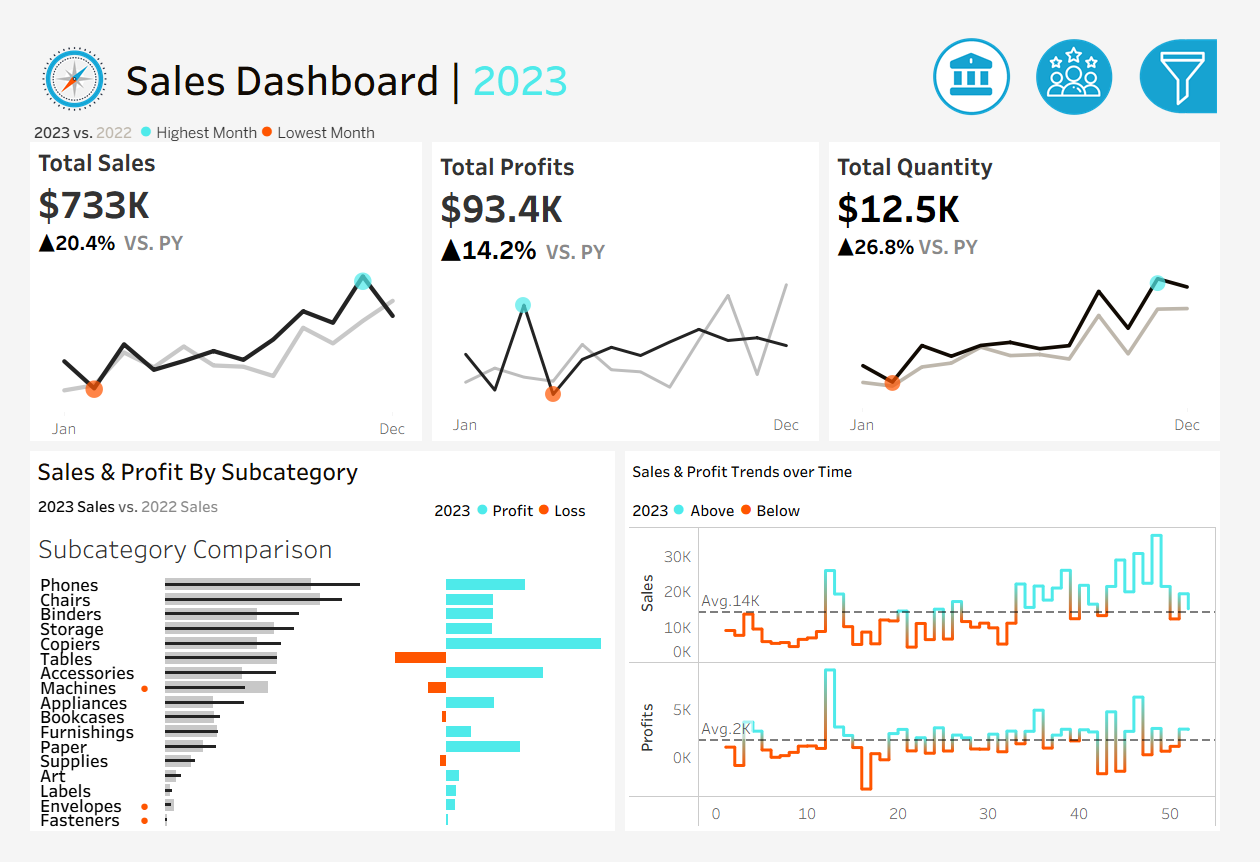

This screenshot's page, from the dashboard's own definition file:
{"tool":"tableau","page":{"name":"Sales Dashboard","canvas":[1200,800],"ordinal":1},"visuals":[{"type":"text","box":[902,0,292,97]},{"type":"image","param":"Image/Icon - Logo.png","box":[5,5,88,76]},{"type":"text","box":[93,5,850,76]},{"type":"worksheet","title":"Legend KPI","mark":"Automatic","box":[5,81,1190,25]},{"type":"text","box":[902,97,292,40]},{"type":"worksheet","title":"KPI Sales","mark":"Line","rows":["Calculation_0945318778806279"],"cols":["Order Date"],"box":[5,106,397,309]},{"type":"worksheet","title":"KPI Profits","mark":"Automatic","cols":["Order Date"],"box":[402,106,397,309]},{"type":"worksheet","title":"KPI Quantity","mark":"Line","rows":["Min/Max Sales (copy)_1578362877456413"],"cols":["Order Date"],"box":[799,106,396,309]},{"type":"parameter","param":"[Parameters].[Parameter 0945318771236869]","box":[902,137,292,56]},{"type":"text","box":[902,193,292,74]},{"type":"text","box":[902,267,292,33]},{"type":"filter","title":"KPI Sales","param":"[federated.07tv24w0hx6gy317v1wc40eklyu1].[none:Category:nk]","box":[902,300,292,61]},{"type":"filter","title":"KPI Sales","param":"[federated.07tv24w0hx6gy317v1wc40eklyu1].[none:Sub-Category:nk]","box":[902,361,292,61]},{"type":"text","box":[5,415,585,40]},{"type":"text","box":[600,415,595,39.9]},{"type":"text","box":[902,422,292,72]},{"type":"text","box":[600,454.9,595,32]},{"type":"worksheet","title":"Legend Subcategory","mark":"Automatic","box":[5,455,397,32]},{"type":"text","box":[402,455,188,32]},{"type":"worksheet","title":"Weeky Trends","mark":"Line","rows":["Calculation_0945318769774594","Calculation_0945318835187725"],"cols":["Order Date"],"box":[600,486.9,595,308.1]},{"type":"worksheet","title":"Subcategory Comparison","mark":"Bar","rows":["Sub-Category","Calculation_1595405351436288"],"cols":["CY Sales  (copy)_0945318770208771","Calculation_0945318769774594","Calculation_0945318835187725"],"box":[5,487,585,308]},{"type":"text","box":[902,494,292,33]},{"type":"filter","title":"KPI Sales","param":"[federated.07tv24w0hx6gy317v1wc40eklyu1].[none:Region:nk]","box":[902,527,292,61]},{"type":"filter","title":"KPI Sales","param":"[federated.07tv24w0hx6gy317v1wc40eklyu1].[none:State:nk]","box":[902,588,292,61]},{"type":"filter","title":"KPI Sales","param":"[federated.07tv24w0hx6gy317v1wc40eklyu1].[none:City:nk]","box":[902,649,292,61]}]}

Visuals, with their boxes in screenshot pixels (x1, y1, x2, y2), scaled from the page's 1200x800 canvas onto the 1260x862 screenshot:
text: box=[947, 0, 1254, 105]
image: box=[5, 5, 98, 87]
text: box=[98, 5, 990, 87]
"Legend KPI" worksheet: box=[5, 87, 1255, 114]
text: box=[947, 105, 1254, 148]
"KPI Sales" worksheet (Line marks): box=[5, 114, 422, 447]
"KPI Profits" worksheet: box=[422, 114, 839, 447]
"KPI Quantity" worksheet (Line marks): box=[839, 114, 1255, 447]
parameter: box=[947, 148, 1254, 208]
text: box=[947, 208, 1254, 288]
text: box=[947, 288, 1254, 323]
"KPI Sales" filter: box=[947, 323, 1254, 389]
"KPI Sales" filter: box=[947, 389, 1254, 455]
text: box=[5, 447, 620, 490]
text: box=[630, 447, 1255, 490]
text: box=[947, 455, 1254, 532]
text: box=[630, 490, 1255, 525]
"Legend Subcategory" worksheet: box=[5, 490, 422, 525]
text: box=[422, 490, 620, 525]
"Weeky Trends" worksheet (Line marks): box=[630, 525, 1255, 857]
"Subcategory Comparison" worksheet (Bar marks): box=[5, 525, 620, 857]
text: box=[947, 532, 1254, 568]
"KPI Sales" filter: box=[947, 568, 1254, 634]
"KPI Sales" filter: box=[947, 634, 1254, 699]
"KPI Sales" filter: box=[947, 699, 1254, 765]
